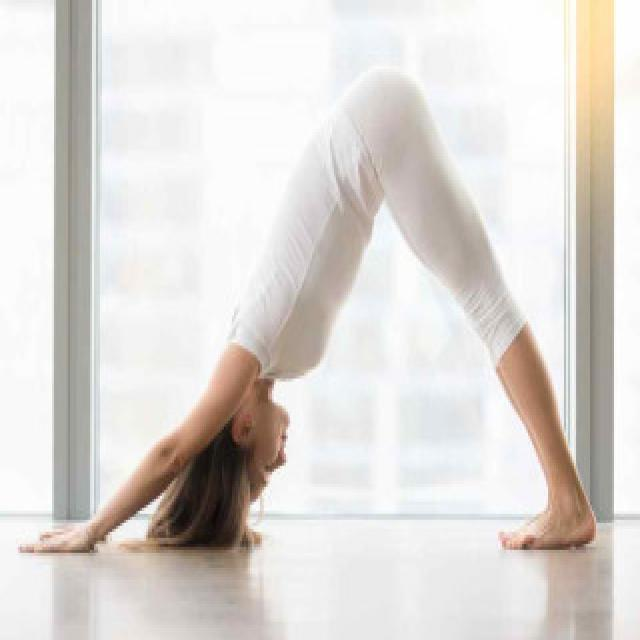yoga-pose downward: (39, 58, 602, 566)
